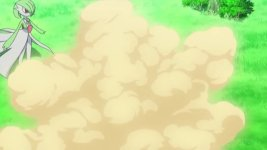gardevoir: (1, 1, 56, 80)
